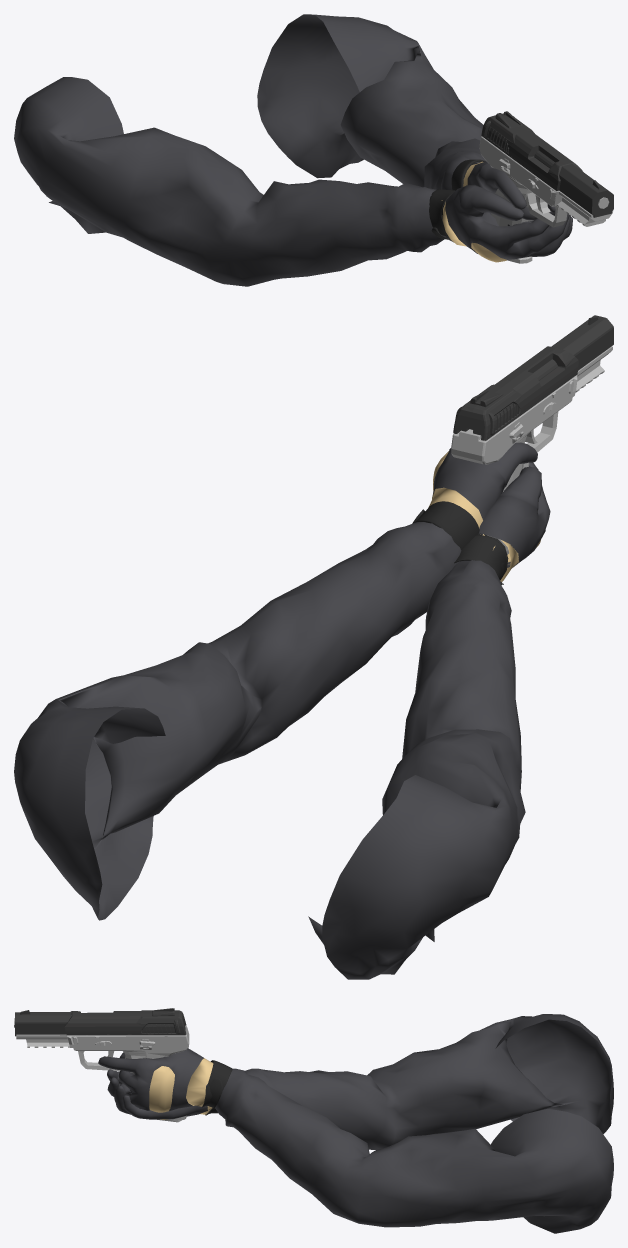
Rendered from 2hands.glb.
3 views of the same model, one above another, from view 1: azimuth 30°, elevation 25°; view 2: azimuth 150°, elevation 25°; view 3: azimuth 270°, elevation 25° (orthographic). The views are drawn at different scales.
Visible parts, largest first — view 1: Lowpoly002.003_Untitled.014, slide, frame.001, Lowpoly002.000_Untitled.016, Lowpoly002.002_Untitled.015; view 2: Lowpoly002.003_Untitled.014, slide, frame.001, Lowpoly002.000_Untitled.016, Lowpoly002.002_Untitled.015; view 3: Lowpoly002.003_Untitled.014, slide, frame.001, Lowpoly002.002_Untitled.015, Lowpoly002.000_Untitled.016.
Part boxes in pixels (left/top/right/bottom): Lowpoly002.003_Untitled.014: left=14, top=14, right=572, bottom=286; slide: left=481, top=111, right=613, bottom=217; frame.001: left=479, top=136, right=613, bottom=227; Lowpoly002.000_Untitled.016: left=429, top=159, right=485, bottom=242; Lowpoly002.002_Untitled.015: left=441, top=161, right=506, bottom=262; Lowpoly002.003_Untitled.014: left=14, top=442, right=550, bottom=979; slide: left=453, top=315, right=613, bottom=440; frame.001: left=451, top=346, right=612, bottom=548; Lowpoly002.000_Untitled.016: left=412, top=501, right=508, bottom=584; Lowpoly002.002_Untitled.015: left=428, top=451, right=540, bottom=581; Lowpoly002.003_Untitled.014: left=98, top=1014, right=613, bottom=1233; slide: left=15, top=1008, right=186, bottom=1036; frame.001: left=14, top=1018, right=189, bottom=1120; Lowpoly002.002_Untitled.015: left=149, top=1058, right=213, bottom=1119; Lowpoly002.000_Untitled.016: left=202, top=1060, right=232, bottom=1115.
Size of the model in its own units: 0.1034 by 0.0658 by 0.177.
